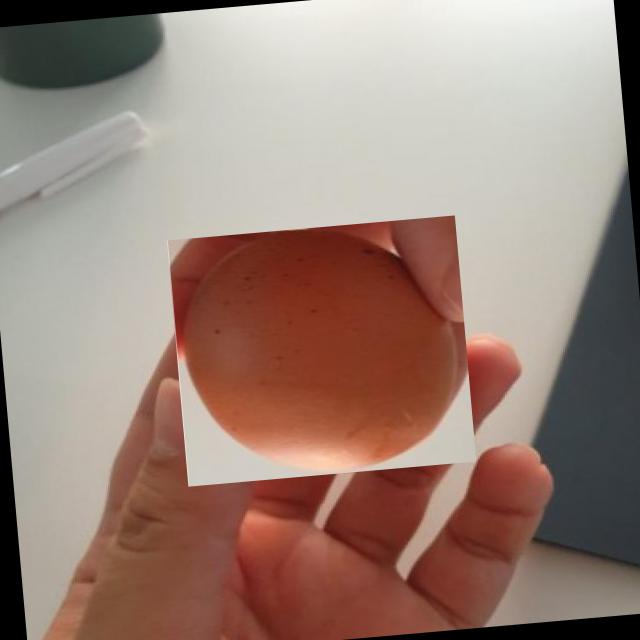eggs: (166, 214, 476, 486)
